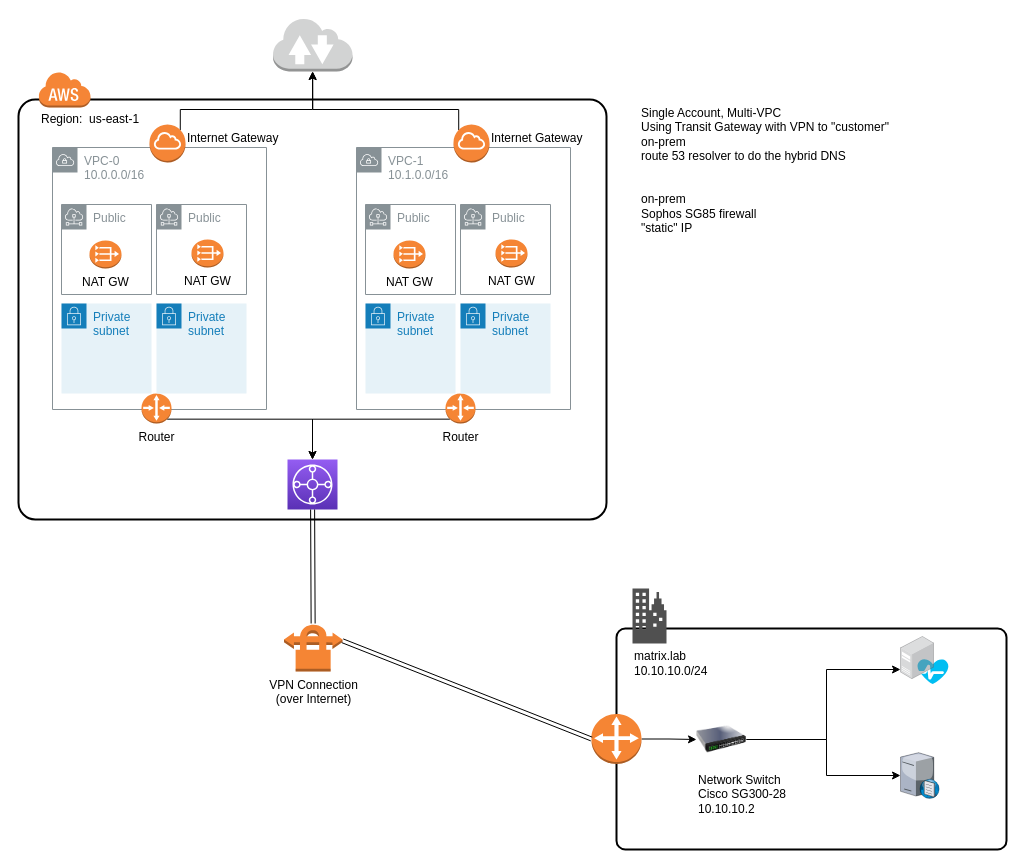
Some shapes in this 1024 by 868 pixel diagram are drawn without their labels. The centre of each missing label's shape, as x and y in pixels:
"AWS Customer Gateway Sophos XG85 10.10.10.1" belongs at [616,738].
"AWS Transit Gateway" belongs at [312,484].
"DNS Server(s) 10.10.10.121 10.10.10.122" belongs at [919,774].
"Monitoring 10.10.10.110" belongs at [917,657].
